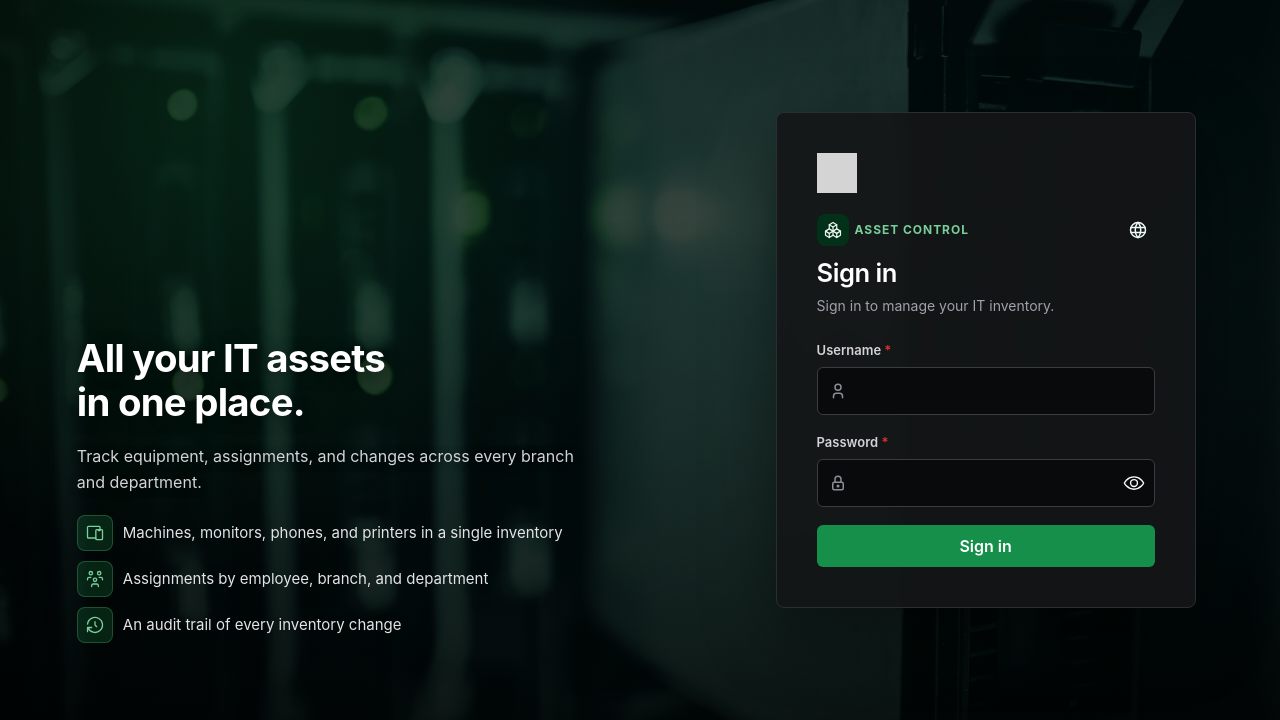
Test: switches login fields and existing server errors without losing input or rechecking the session
Expected: the button "Sign in" is shown, top-left (817, 525), bottom-right (1155, 567)
Type "Ana" into the field labelled "Username".
click(986, 391); type("Ana")  # box top-left (817, 367), bottom-right (1155, 415)
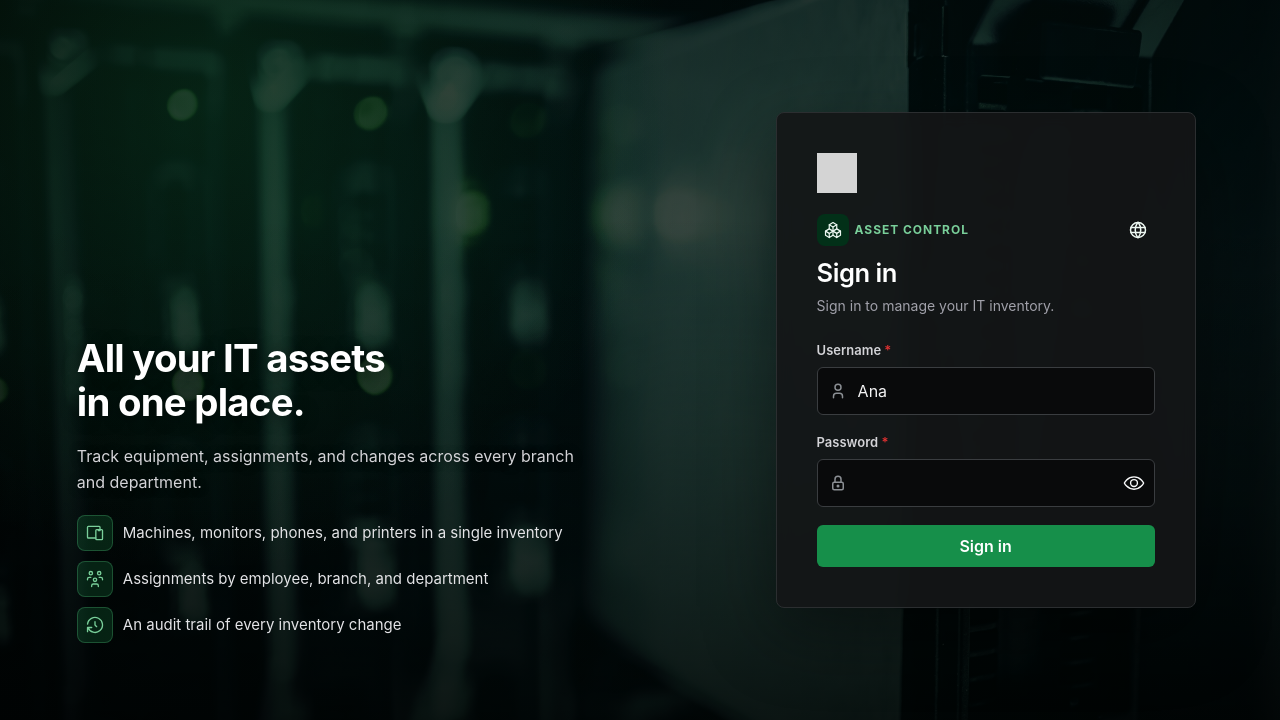
Type " keep spaces " into the password field labelled "Password".
click(986, 483); type(" keep spaces ")  # box top-left (818, 460), bottom-right (1154, 506)
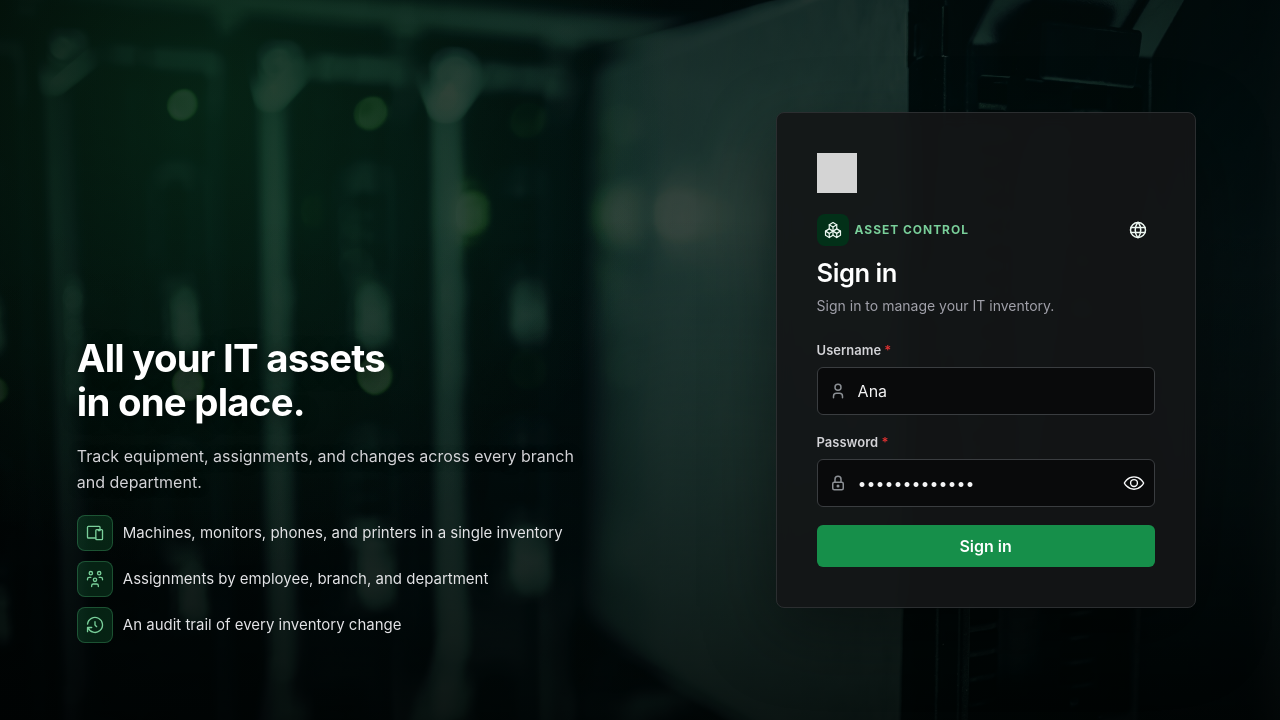
Click the button "Sign in".
click(986, 546)  # box top-left (817, 525), bottom-right (1155, 567)
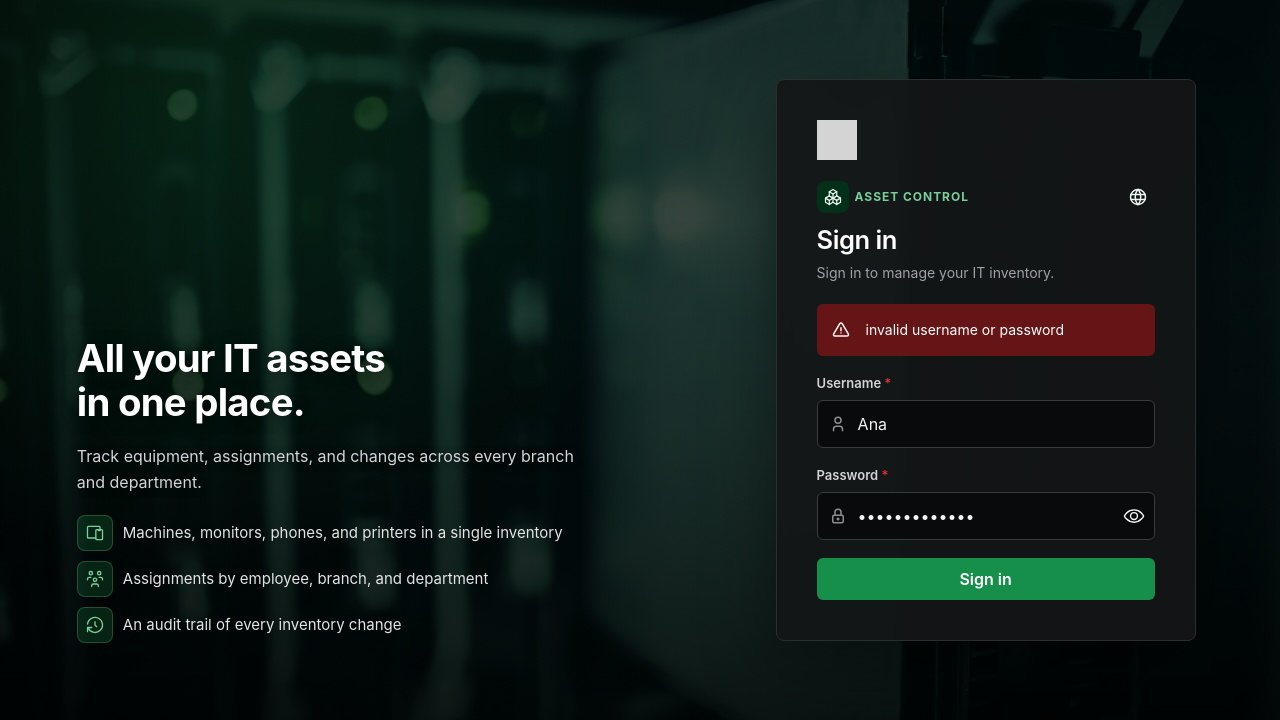
Now the text "invalid username or password" is shown, box top-left (866, 321), bottom-right (1064, 338)
Click the button named "Change language to Portuguese (Brazil)".
click(1138, 197)  # box top-left (1121, 180), bottom-right (1155, 214)
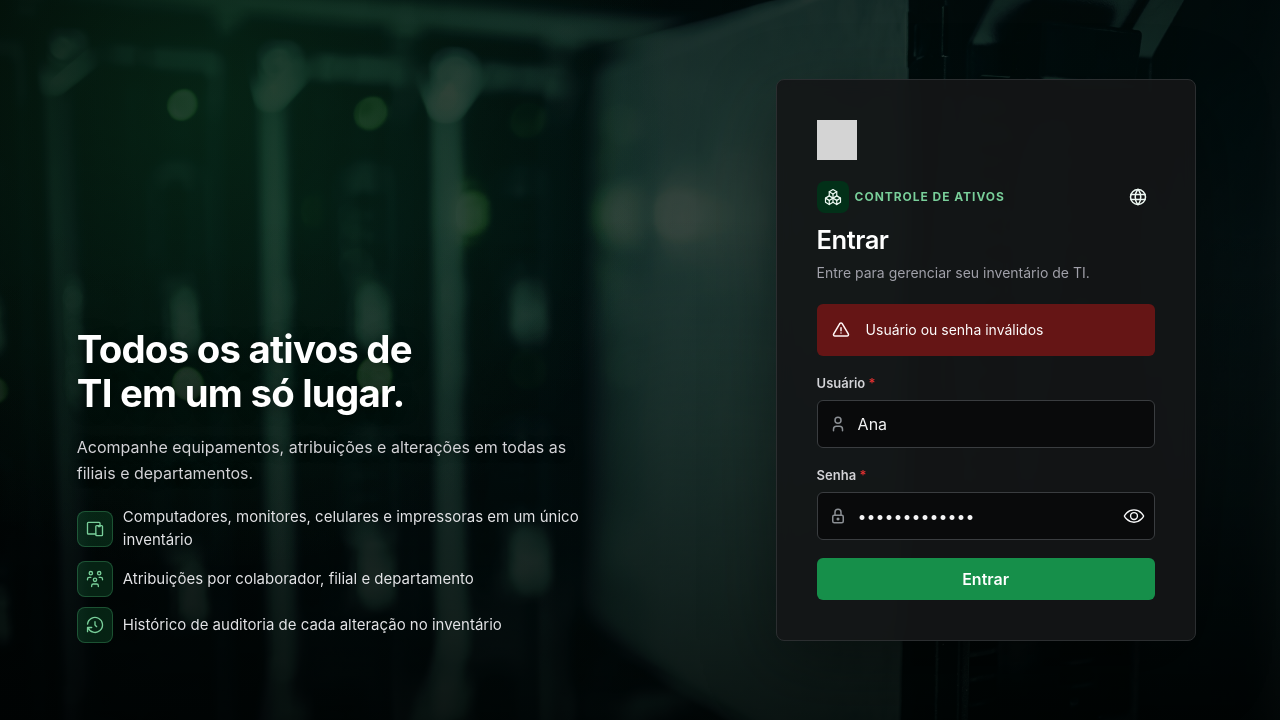
Now the text "Usuário ou senha inválidos" is shown, box top-left (866, 321), bottom-right (1043, 338)
Click the button named "Mudar idioma para Inglês".
click(1138, 197)  # box top-left (1121, 180), bottom-right (1155, 214)
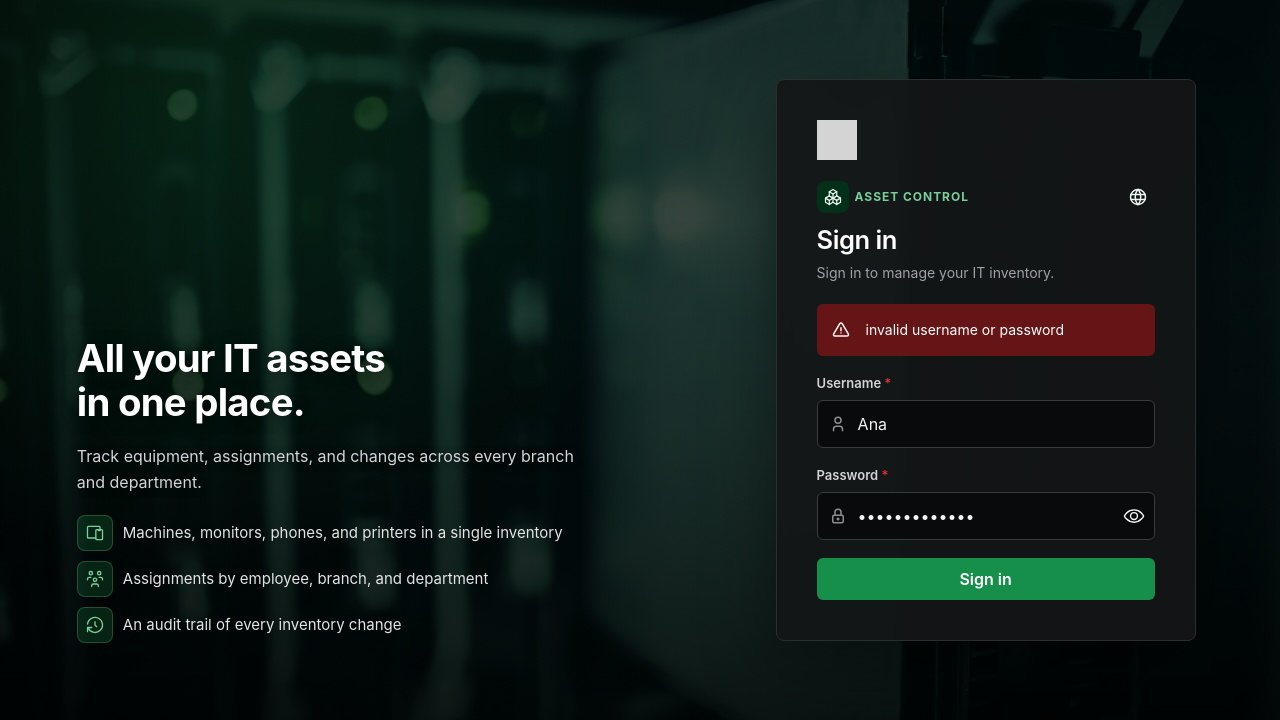
Now the text "invalid username or password" is shown, box top-left (866, 321), bottom-right (1064, 338)
